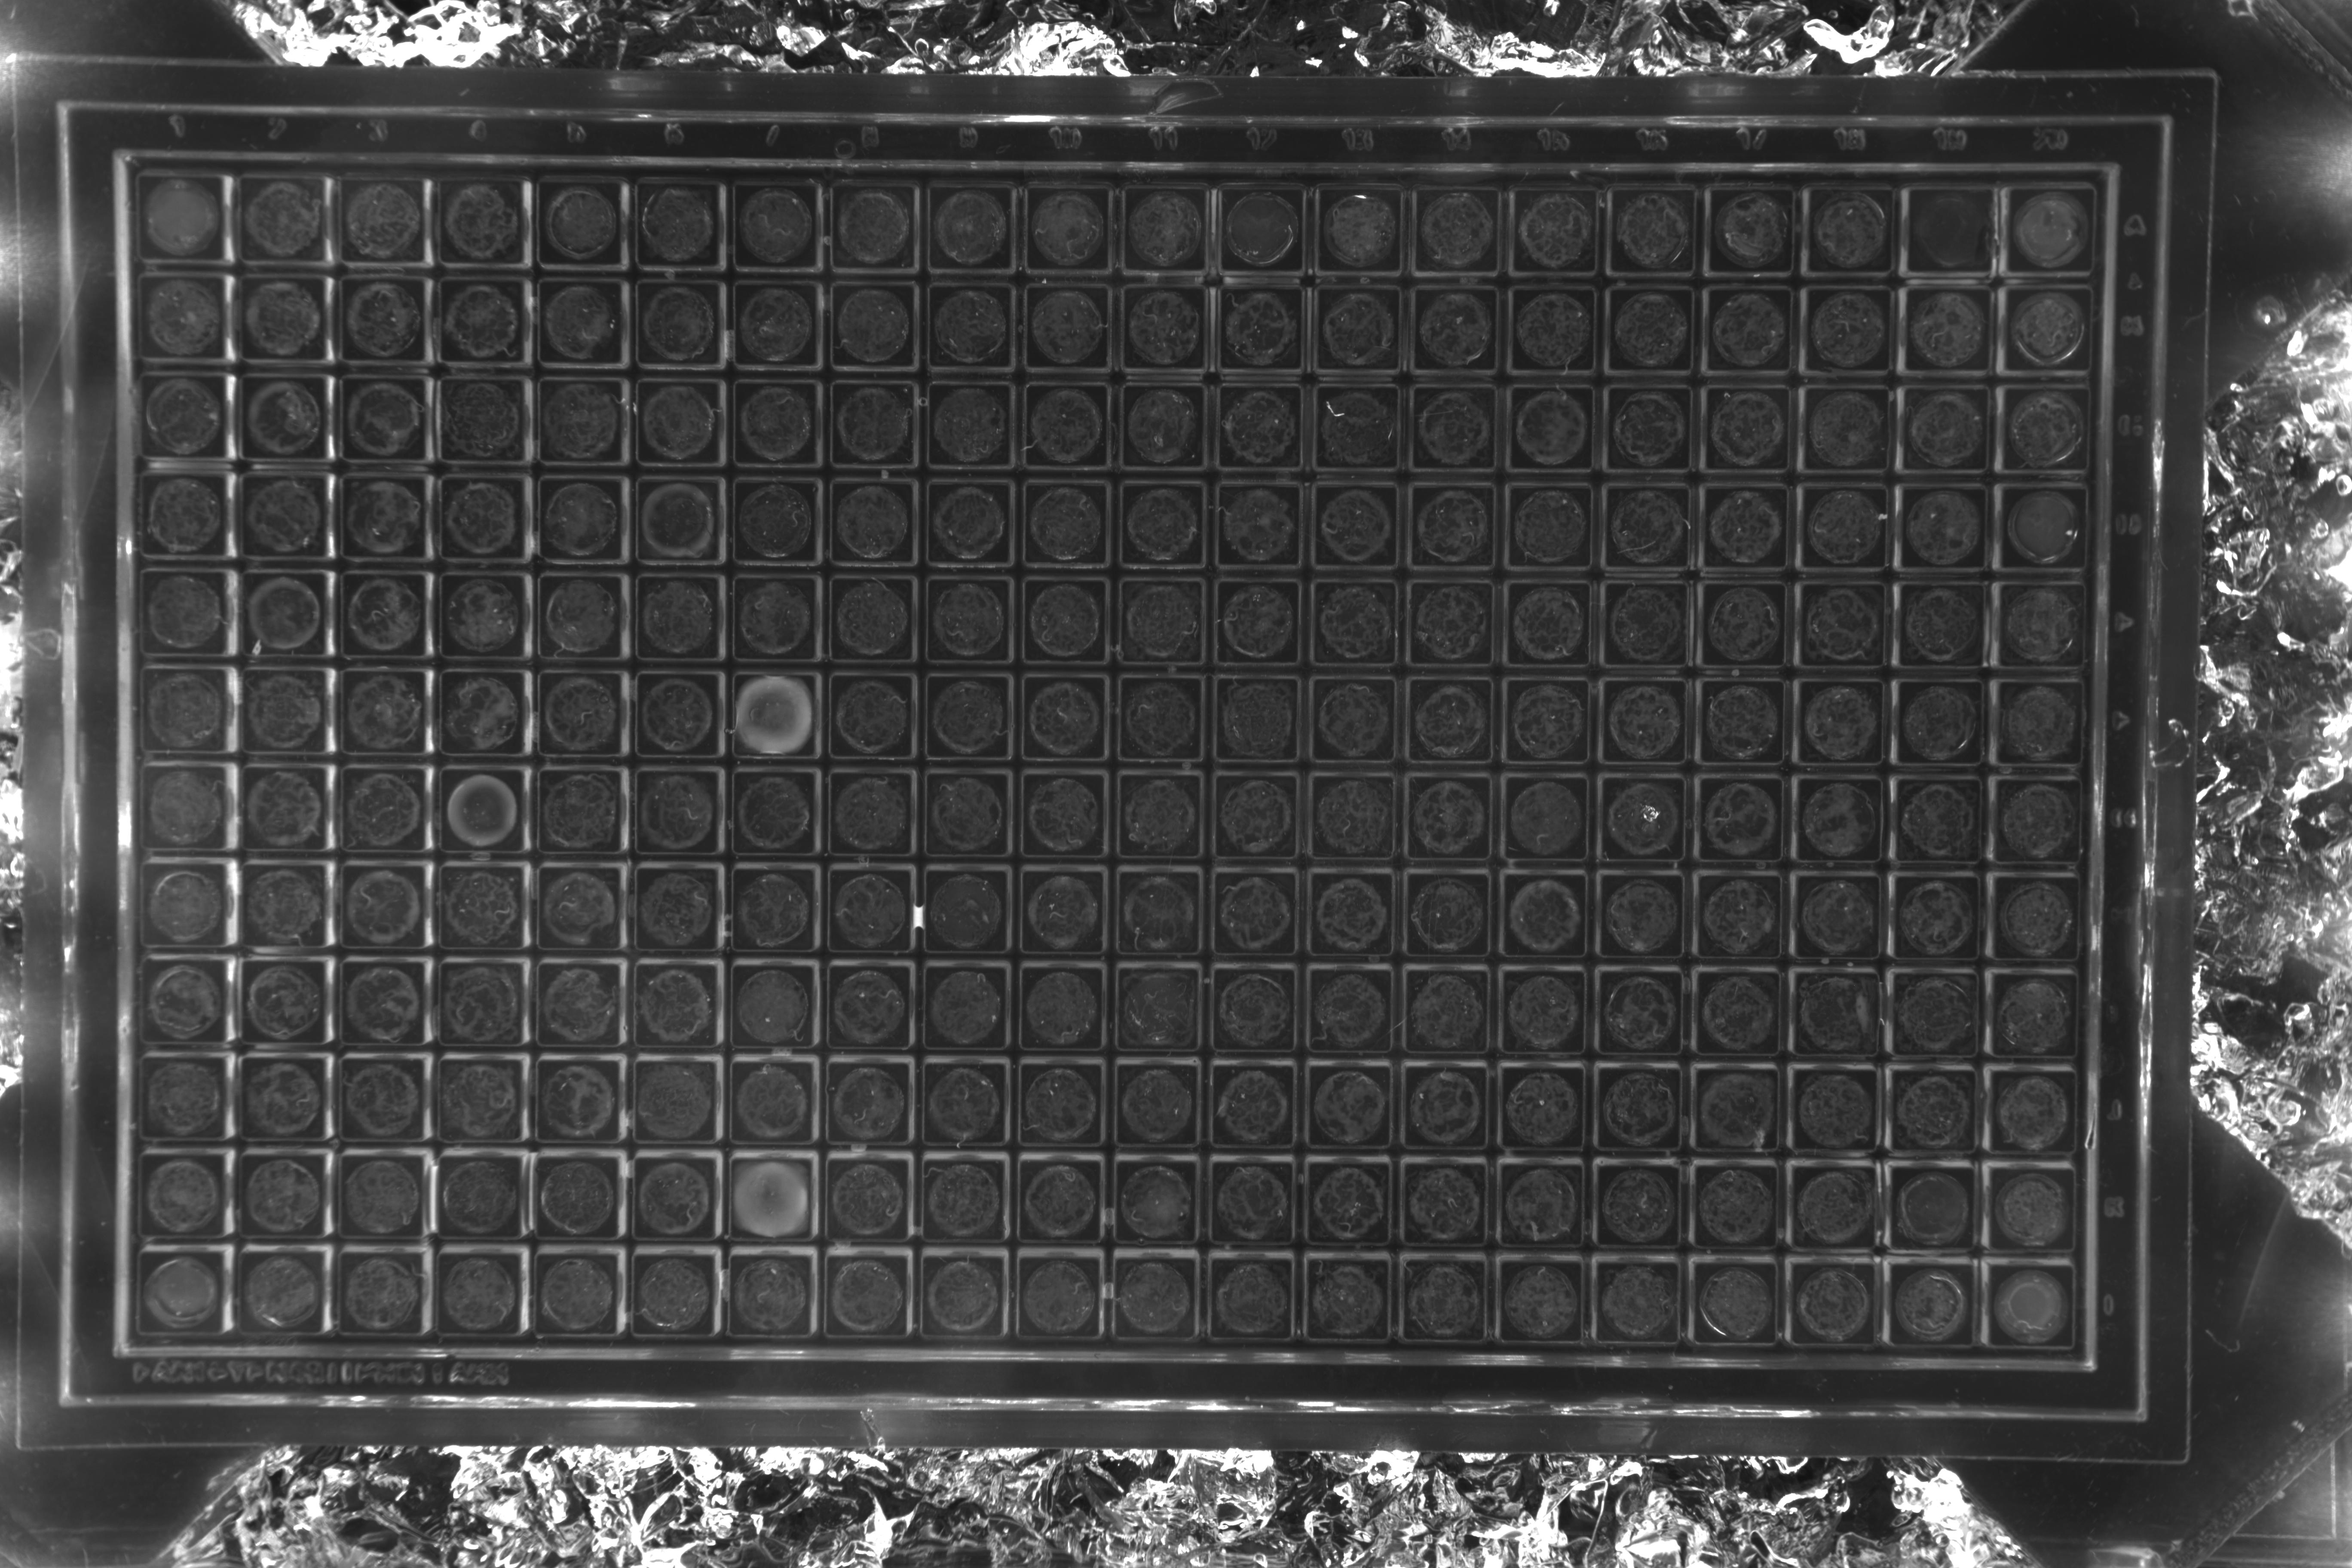WM_well: (297, 535, 387, 623), (595, 1020, 684, 1108), (789, 1115, 878, 1202), (191, 138, 278, 226), (192, 236, 280, 324), (593, 632, 681, 719), (686, 240, 773, 327), (693, 1018, 780, 1106), (887, 920, 975, 1008), (983, 630, 1071, 717), (1078, 338, 1165, 425), (1176, 532, 1263, 619), (1368, 1017, 1456, 1104), (1372, 138, 1459, 226), (1465, 1113, 1552, 1200), (1466, 630, 1554, 717), (1466, 726, 1554, 814), (1468, 532, 1556, 619), (1662, 822, 1750, 910), (1759, 1115, 1846, 1202), (1956, 1115, 2044, 1202), (1962, 427, 2049, 514), (2063, 227, 2151, 315)
